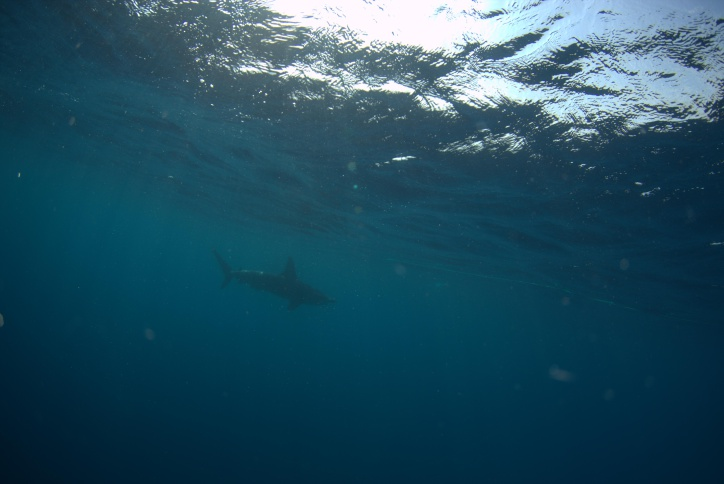Hammer: (234, 155, 355, 267), (193, 237, 346, 323)
